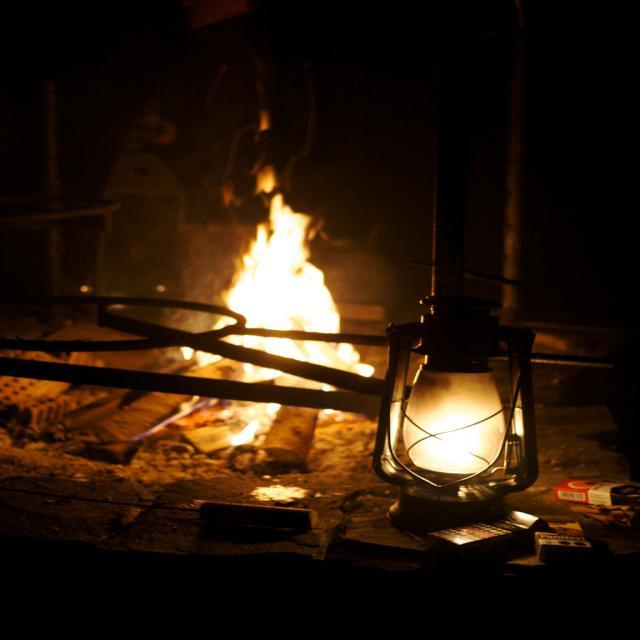Fire: (238, 211, 320, 355)
